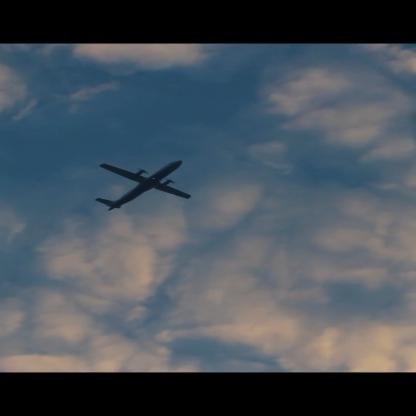plane: (94, 159, 191, 211)
